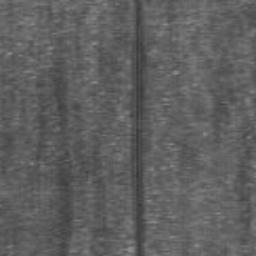Scratches: (134, 0, 147, 256)
